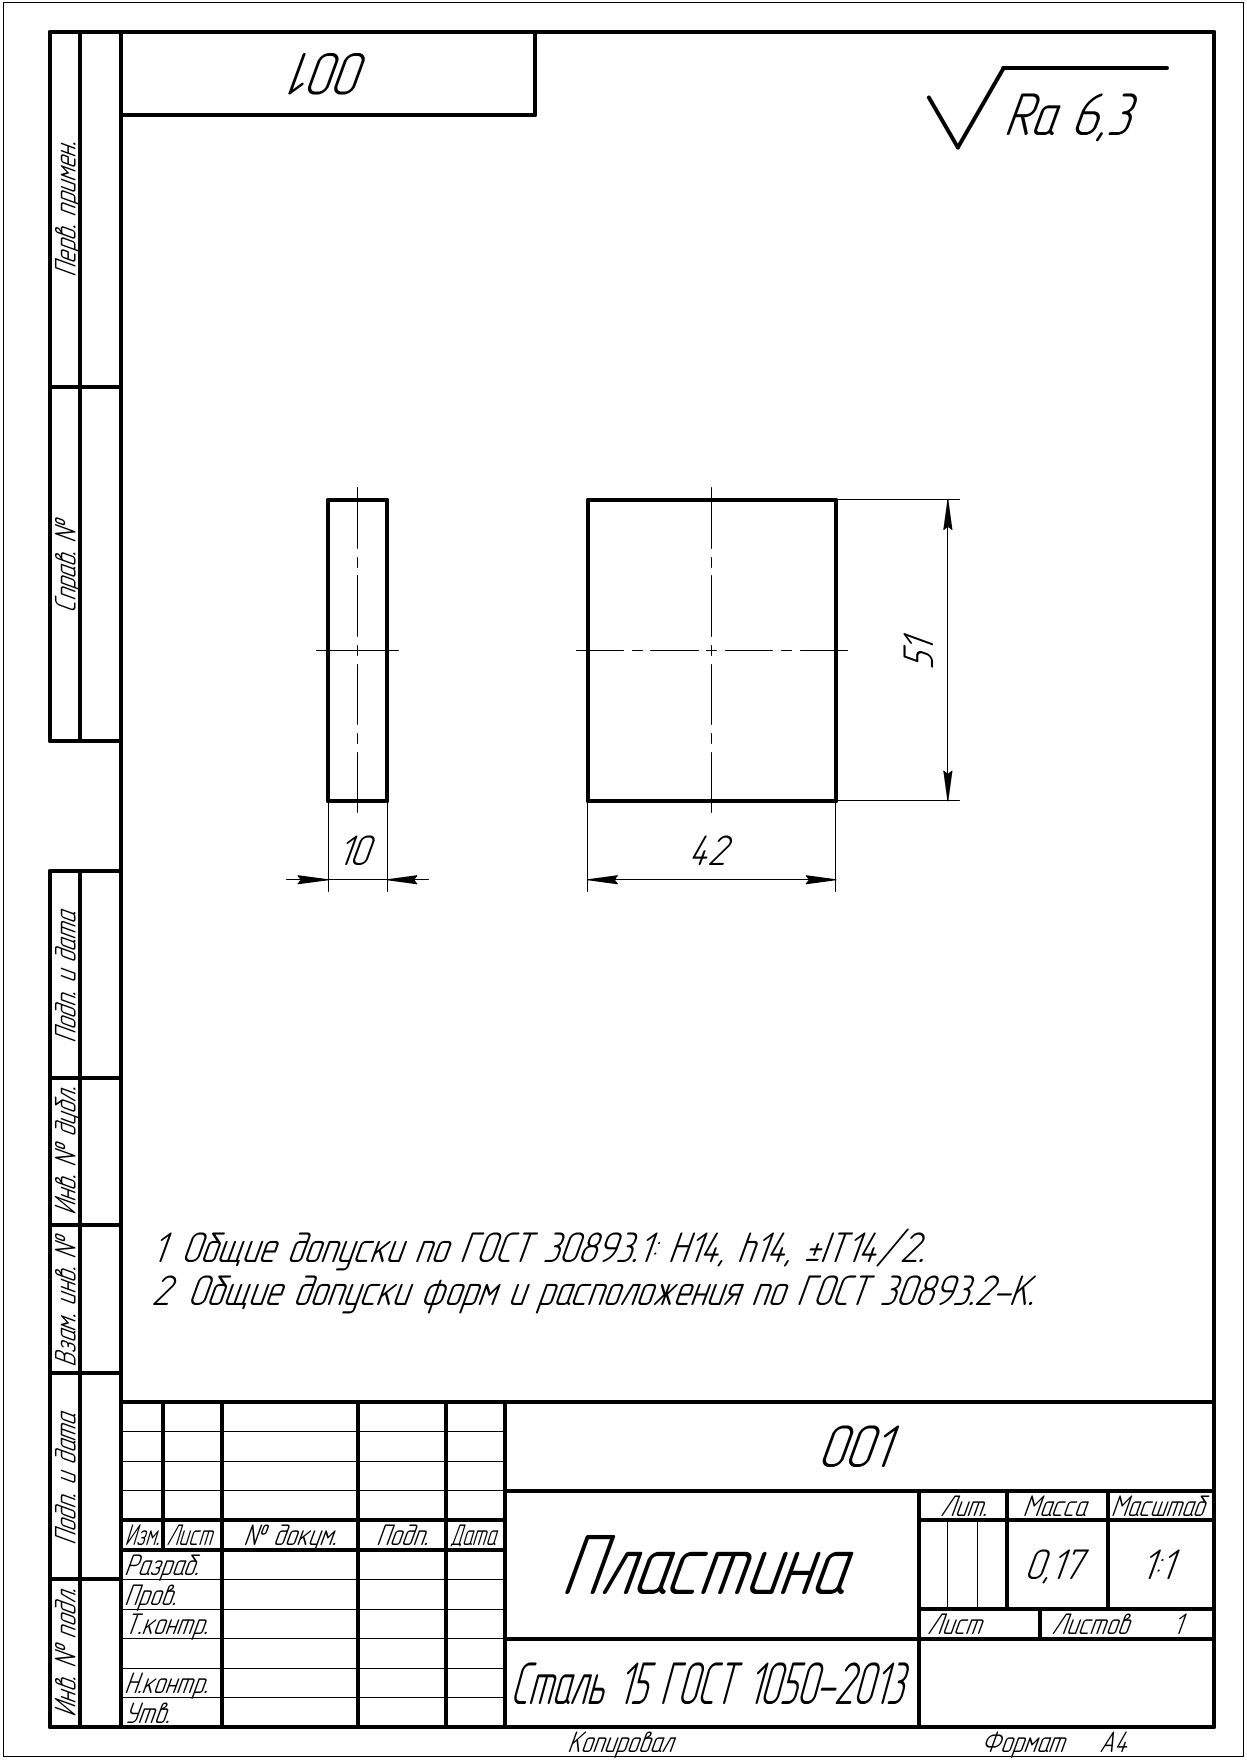Линейный размер: (889, 486, 968, 817), (578, 826, 850, 900), (277, 825, 448, 893)
Общая шероховатость: (916, 49, 1190, 165)
Технические требования: (139, 1217, 1070, 1324)
